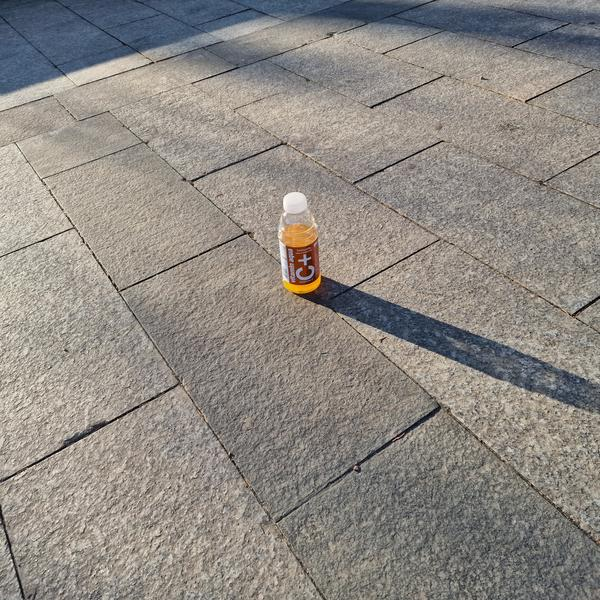plastic_bottle: (274, 189, 324, 296)
